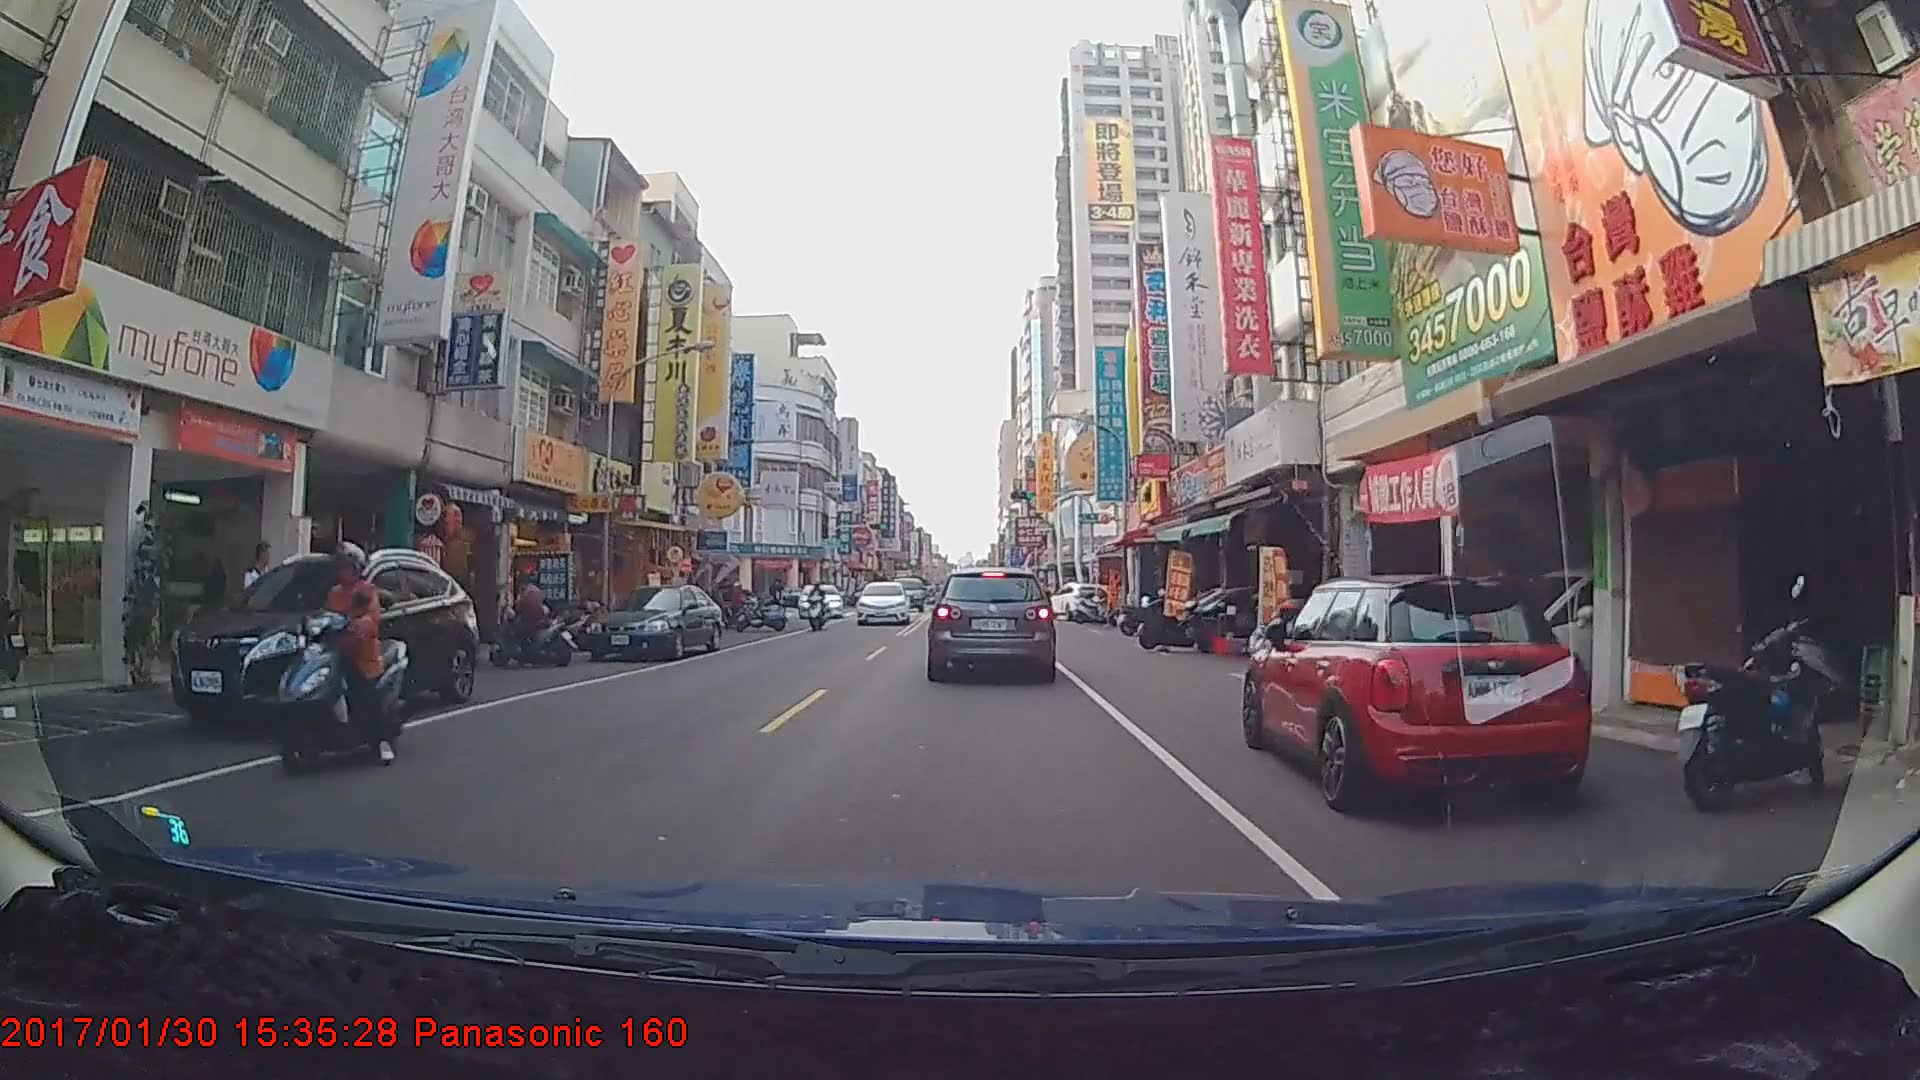rider: (265, 539, 417, 777), (484, 566, 585, 673), (803, 583, 831, 635)
vehicle: (1247, 567, 1584, 809), (165, 549, 481, 740), (929, 563, 1055, 681), (582, 588, 724, 663), (1045, 581, 1108, 623), (853, 580, 911, 623), (797, 582, 844, 619)
